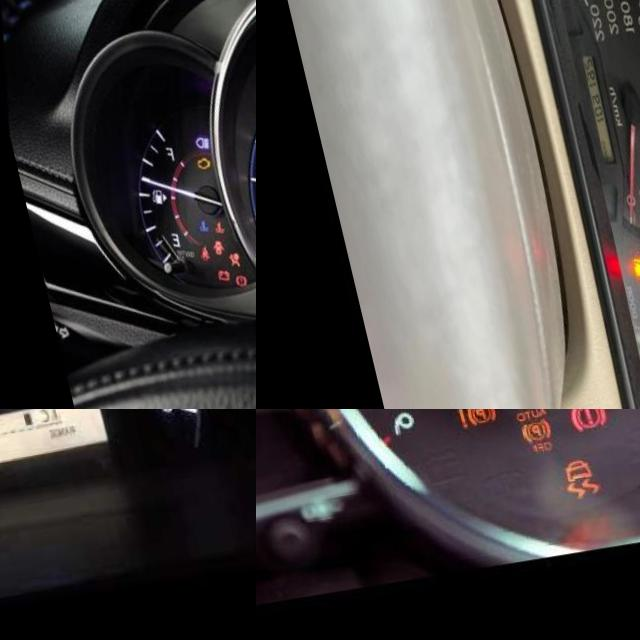High Engine Coolant Temperature: (194, 227, 206, 240)
Seat Belt: (180, 251, 191, 267)
